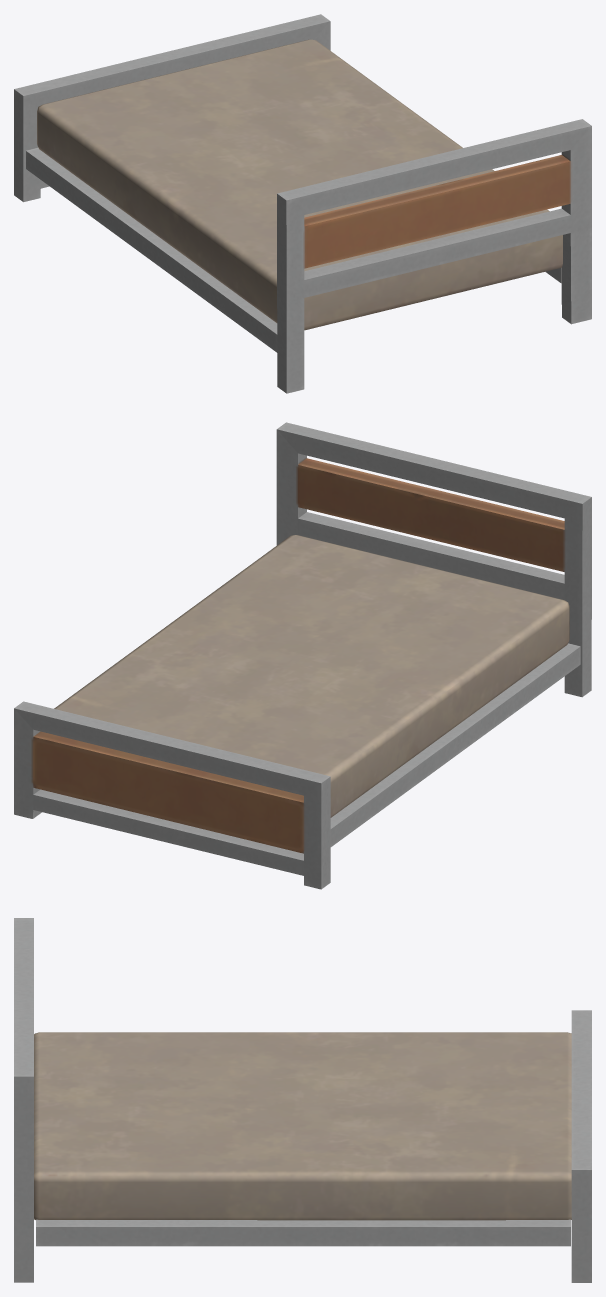
File: Prfb_Indoors_Bedroom_Bed.fbx
The picture shows the model from 3 angles, top to bottom: view 1: azimuth 30°, elevation 25°; view 2: azimuth 150°, elevation 25°; view 3: azimuth 270°, elevation 25°; orthographic projection. The views are drawn at different scales.
Parts seen in each view (by area): view 1: Mat_Indoors_Bedroom_01; view 2: Mat_Indoors_Bedroom_01; view 3: Mat_Indoors_Bedroom_01.
Boxes of the visible parts, bbox=[...] form: Mat_Indoors_Bedroom_01: bbox=[14, 14, 591, 393]; Mat_Indoors_Bedroom_01: bbox=[14, 422, 591, 889]; Mat_Indoors_Bedroom_01: bbox=[14, 918, 591, 1282].
Size of the model in its own units: 1.76 by 1.06 by 2.7.
1 material, 1 textured.
